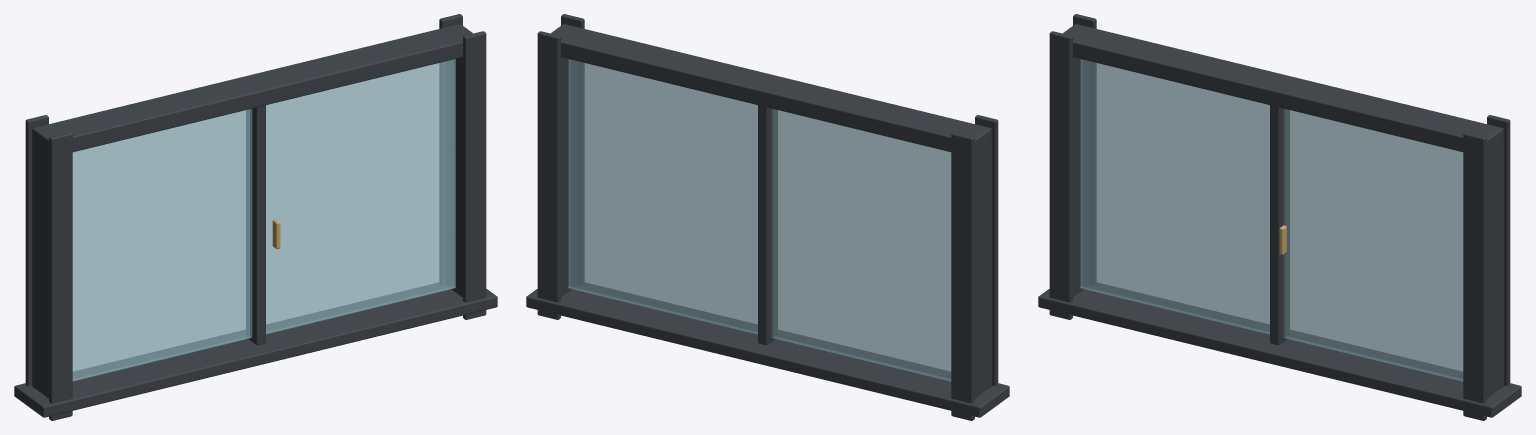
The model's file is window-wide.glb.
3 renders of one model, left to right at view 1: azimuth 30°, elevation 25°; view 2: azimuth 150°, elevation 25°; view 3: azimuth 330°, elevation 25°, orthographic.
Parts seen in each view (by area): view 1: Glazing.001, Sill.001, Lintel.005, Architrave.022, Architrave.020, Mullion.001, Jamb.010, Jamb.011, Architrave.021, Architrave.023; view 2: Glazing.001, Sill.001, Lintel.005, Architrave.023, Architrave.021, Mullion.001, Jamb.010, Jamb.011, Architrave.020, Architrave.022; view 3: Glazing.001, Sill.001, Lintel.005, Architrave.020, Architrave.022, Mullion.001, Jamb.011, Jamb.010, Architrave.023, Architrave.021.
Boxes of the visible parts, x1,y1,x2,y2 form: Glazing.001: (72,59,455,381); Sill.001: (14,283,497,417); Lintel.005: (32,27,462,154); Architrave.022: (463,31,486,319); Architrave.020: (49,132,72,420); Mullion.001: (246,105,265,345); Jamb.010: (32,125,58,398); Jamb.011: (446,24,472,297); Architrave.021: (25,115,48,386); Architrave.023: (439,14,462,284); Glazing.001: (568,59,951,381); Sill.001: (526,283,1009,417); Lintel.005: (561,27,991,154); Architrave.023: (537,31,560,319); Architrave.021: (951,132,974,420); Mullion.001: (758,105,777,345); Jamb.010: (965,125,991,398); Jamb.011: (551,24,577,297); Architrave.020: (975,115,998,386); Architrave.022: (561,14,584,284); Glazing.001: (1080,59,1463,381); Sill.001: (1038,283,1521,417); Lintel.005: (1073,27,1503,154); Architrave.020: (1049,31,1072,319); Architrave.022: (1463,132,1486,420); Mullion.001: (1270,105,1289,345); Jamb.011: (1477,125,1503,398); Jamb.010: (1063,24,1089,297); Architrave.023: (1487,115,1510,386); Architrave.021: (1073,14,1096,284).
Bounding box in the file's own units: 2.12 × 1.26 × 0.24.
